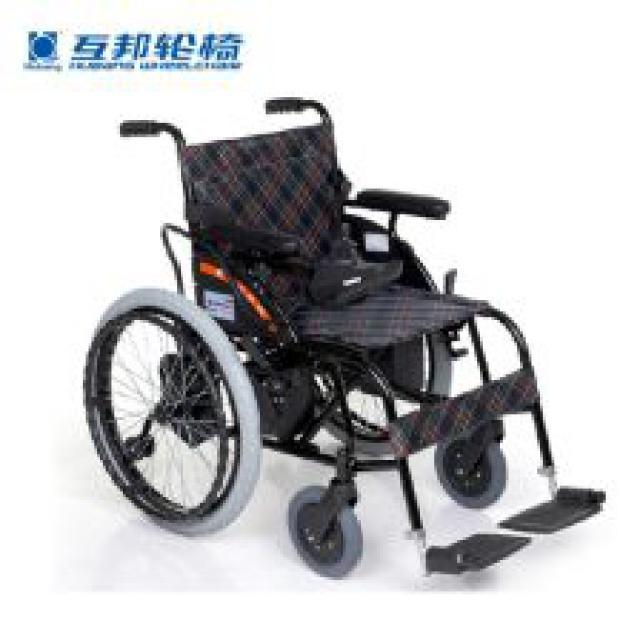wheelchair: (69, 82, 606, 598)
